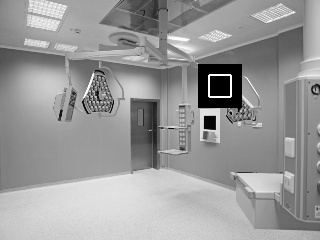square: (198, 64, 242, 108)
